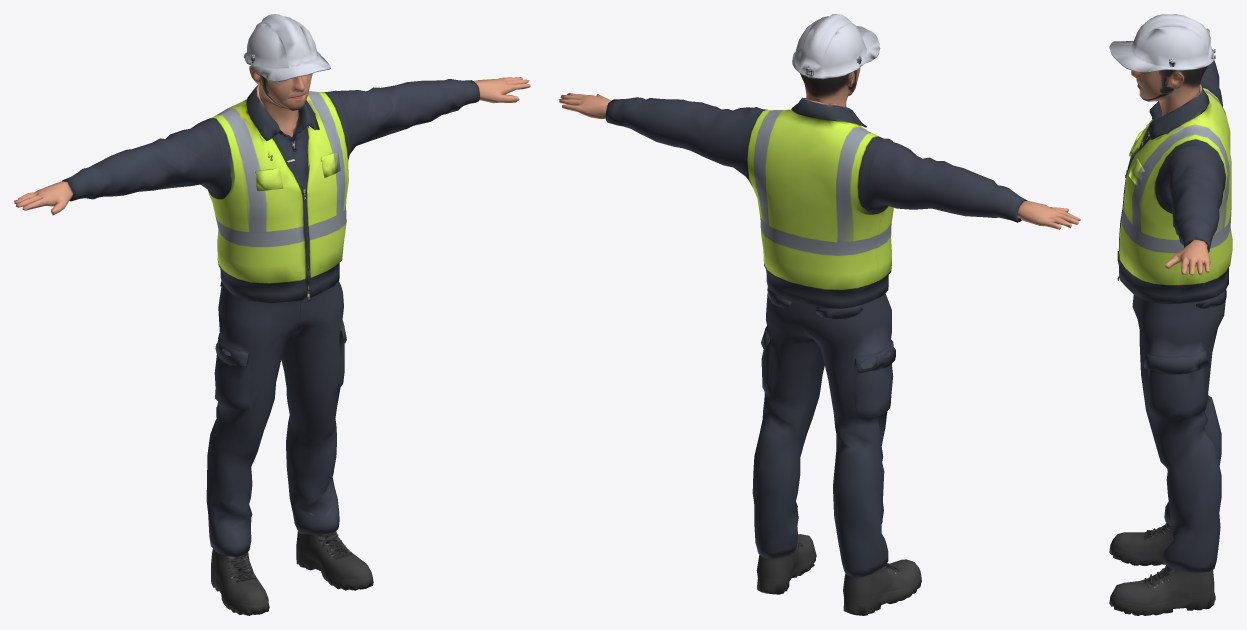
3 views of the same model, side by side, from view 1: azimuth 30°, elevation 25°; view 2: azimuth 150°, elevation 25°; view 3: azimuth 270°, elevation 25° (orthographic).
Parts seen in each view (by area): view 1: tripo_node_c468b0e7-e732-428a-9a6b-1f9a21b0bc96; view 2: tripo_node_c468b0e7-e732-428a-9a6b-1f9a21b0bc96; view 3: tripo_node_c468b0e7-e732-428a-9a6b-1f9a21b0bc96.
Part boxes in pixels (x1,y1,x2,y2): tripo_node_c468b0e7-e732-428a-9a6b-1f9a21b0bc96: (14, 14, 530, 615); tripo_node_c468b0e7-e732-428a-9a6b-1f9a21b0bc96: (559, 14, 1080, 615); tripo_node_c468b0e7-e732-428a-9a6b-1f9a21b0bc96: (1109, 14, 1232, 615).
Bounding box in the file's own units: 0.9473 × 0.998 × 0.1973.
Materials: 1 (1 with a texture image).
